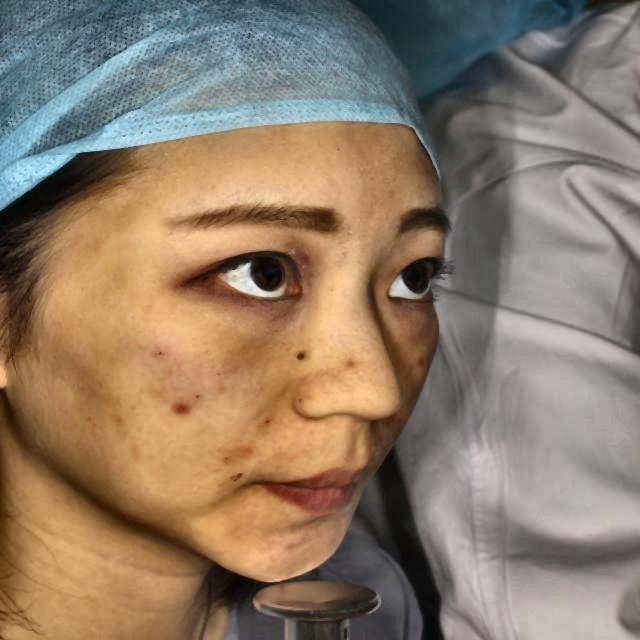comedone: (281, 529, 317, 563), (224, 438, 260, 471), (164, 392, 191, 422)
